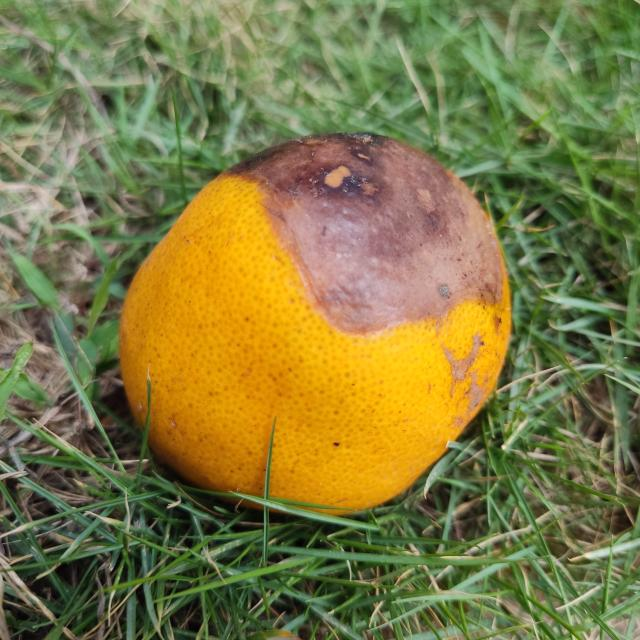orange: (120, 129, 518, 514)
